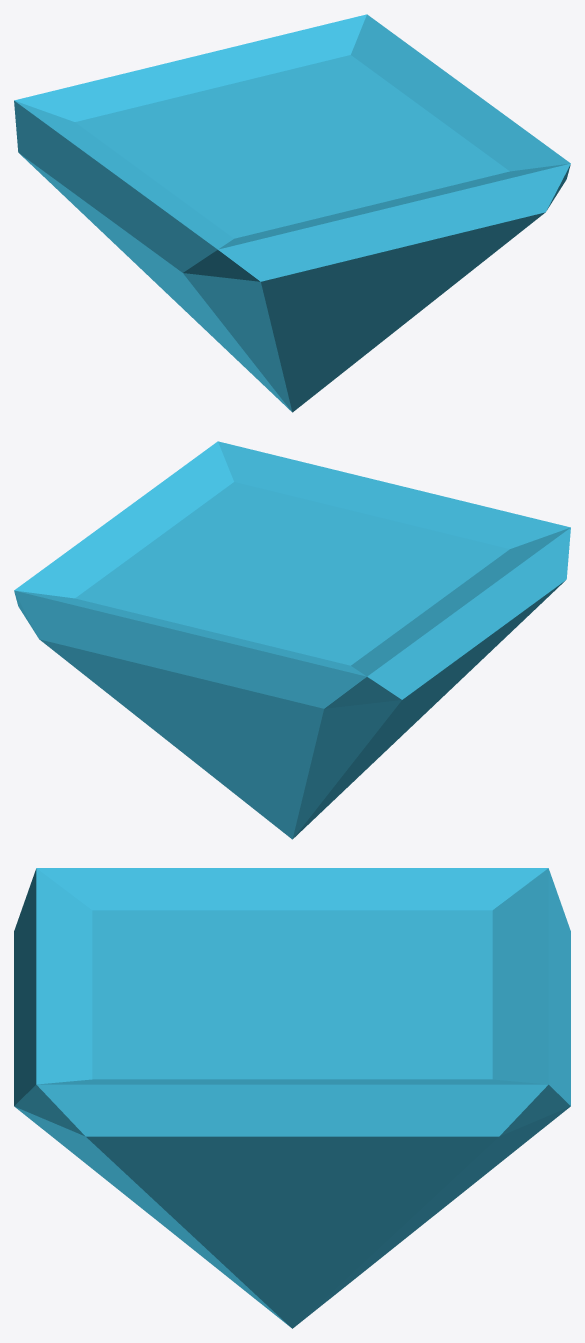
Rendered from Arrow.fbx.
3 renders of one model, top to bottom at view 1: azimuth 30°, elevation 25°; view 2: azimuth 150°, elevation 25°; view 3: azimuth 270°, elevation 25°, orthographic. The views are drawn at different scales.
Visible parts, largest first — view 1: Cube; view 2: Cube; view 3: Cube.
Part boxes in pixels (box(x1,y1,x2,y2)): Cube: box(14, 14, 570, 412); Cube: box(14, 441, 570, 839); Cube: box(14, 868, 570, 1328).
Bounding box in the file's own units: 176 × 123 × 176.
